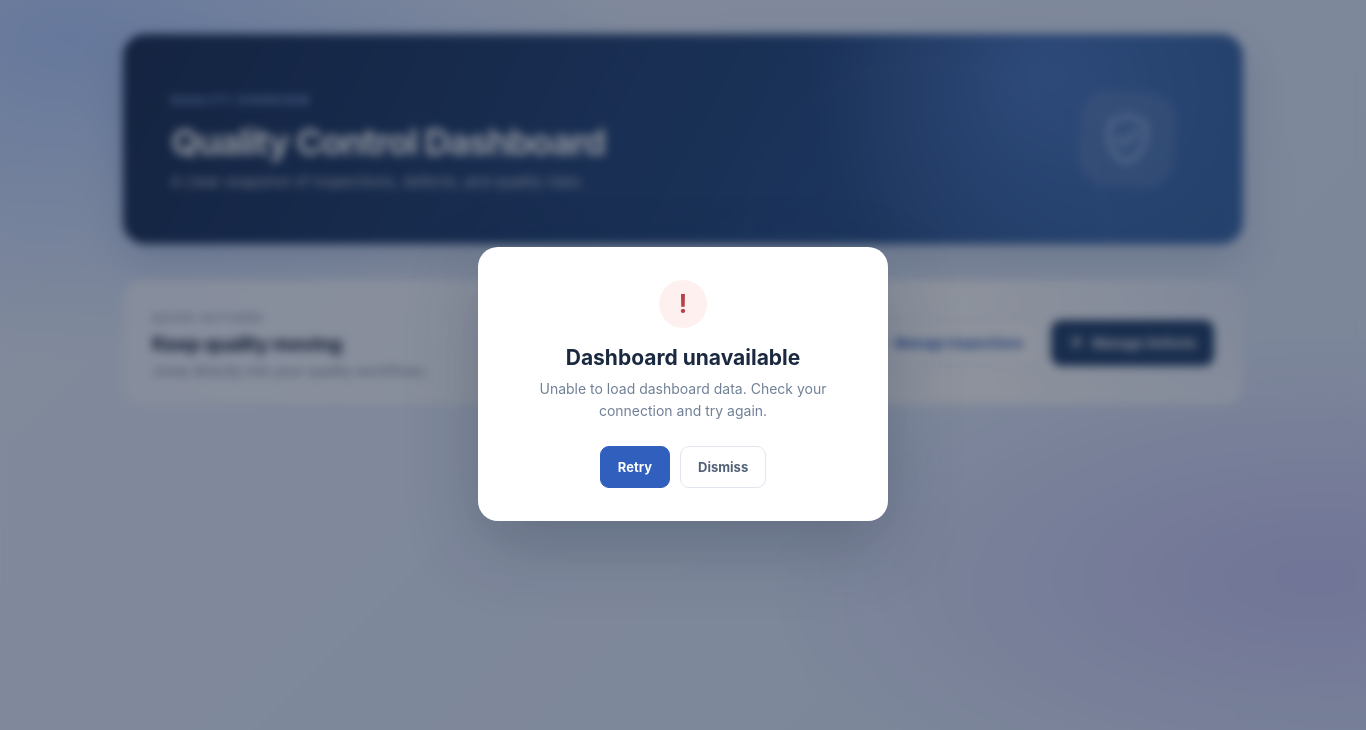
Test: Dashboard Component › retries after a dashboard load error
The width and height of the screenshot is (1366, 730).
Click the button "Retry".
click(635, 467)  # box left=600, top=446, right=670, bottom=488
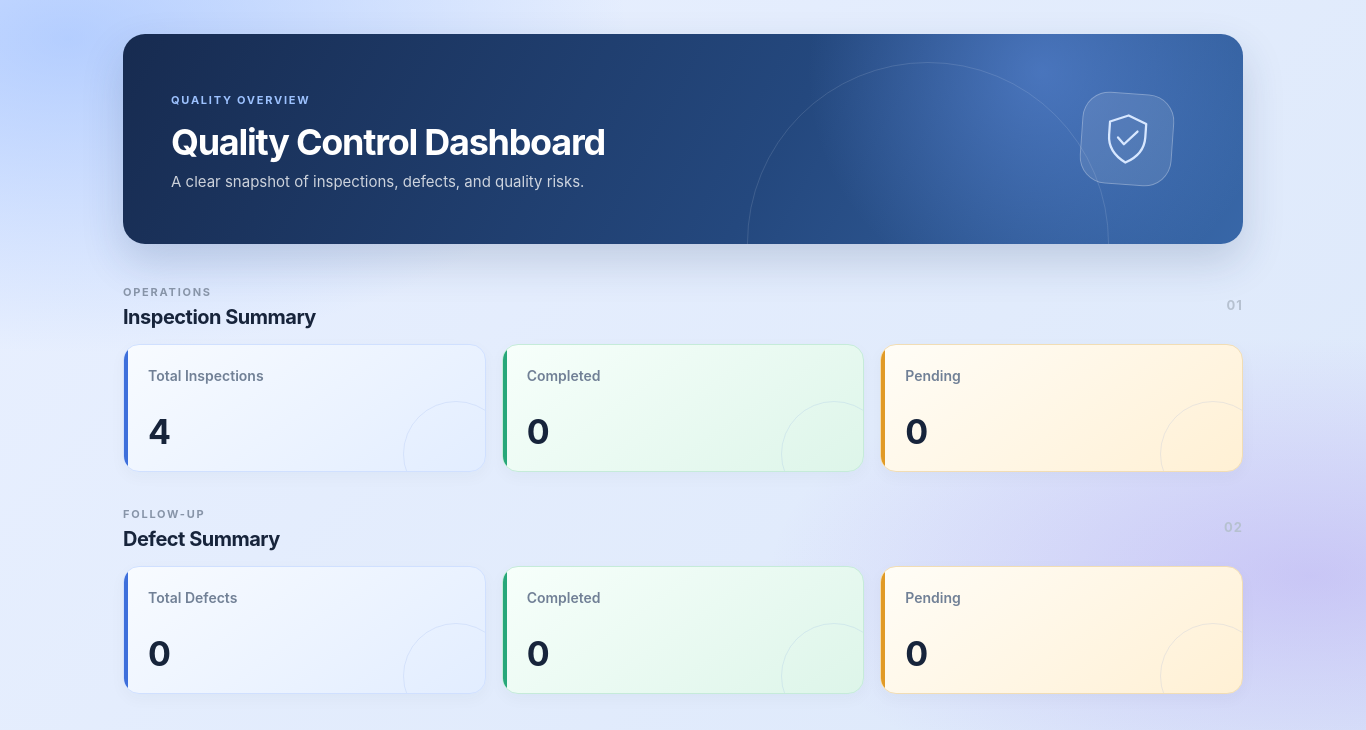
Expected: the text "4" is shown, left=148, top=411, right=169, bottom=452
